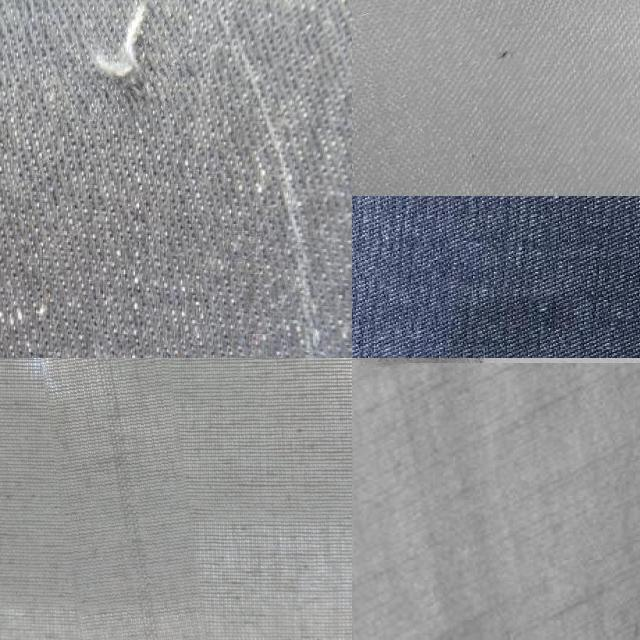Hole: (474, 36, 560, 98), (352, 0, 401, 34)
Thread_other: (31, 358, 199, 640), (51, 0, 195, 118)
